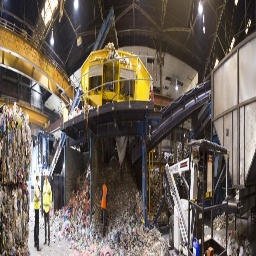helmet: (44, 167, 48, 179), (35, 171, 40, 180)
no-helmet: (104, 177, 106, 185)
person: (42, 169, 53, 246), (32, 171, 42, 253), (100, 176, 108, 238)
vest: (43, 183, 51, 213), (33, 180, 40, 211), (101, 184, 107, 214)
